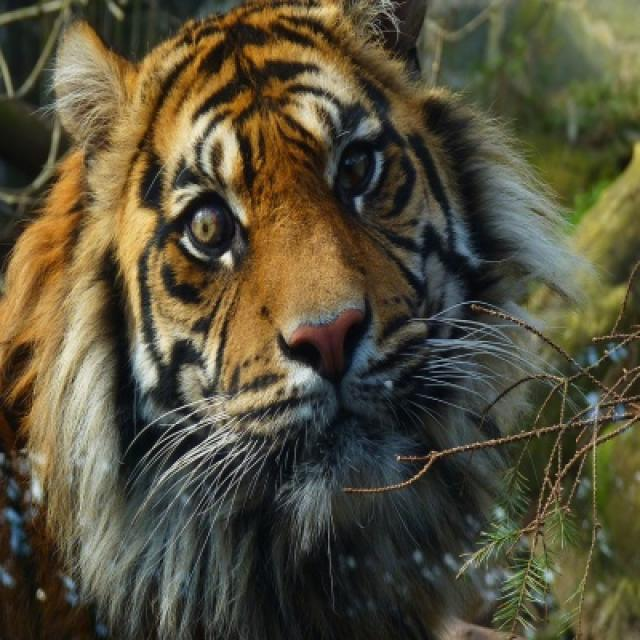Tiger: (2, 0, 605, 634)
